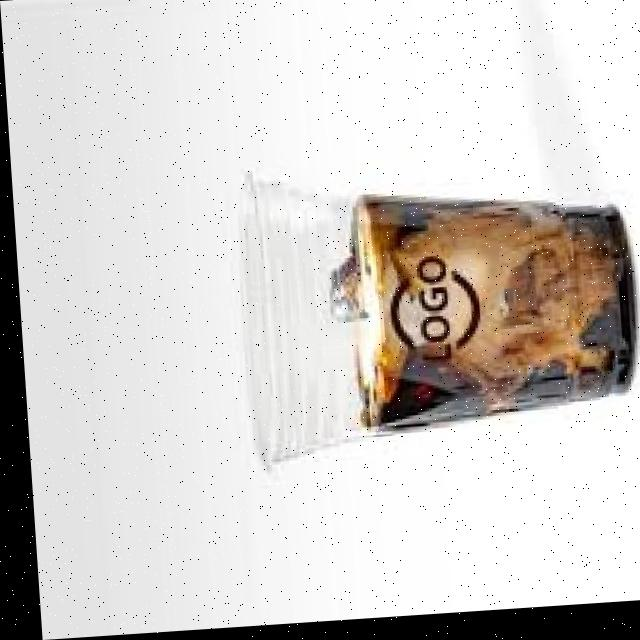cup: (226, 175, 624, 469)
